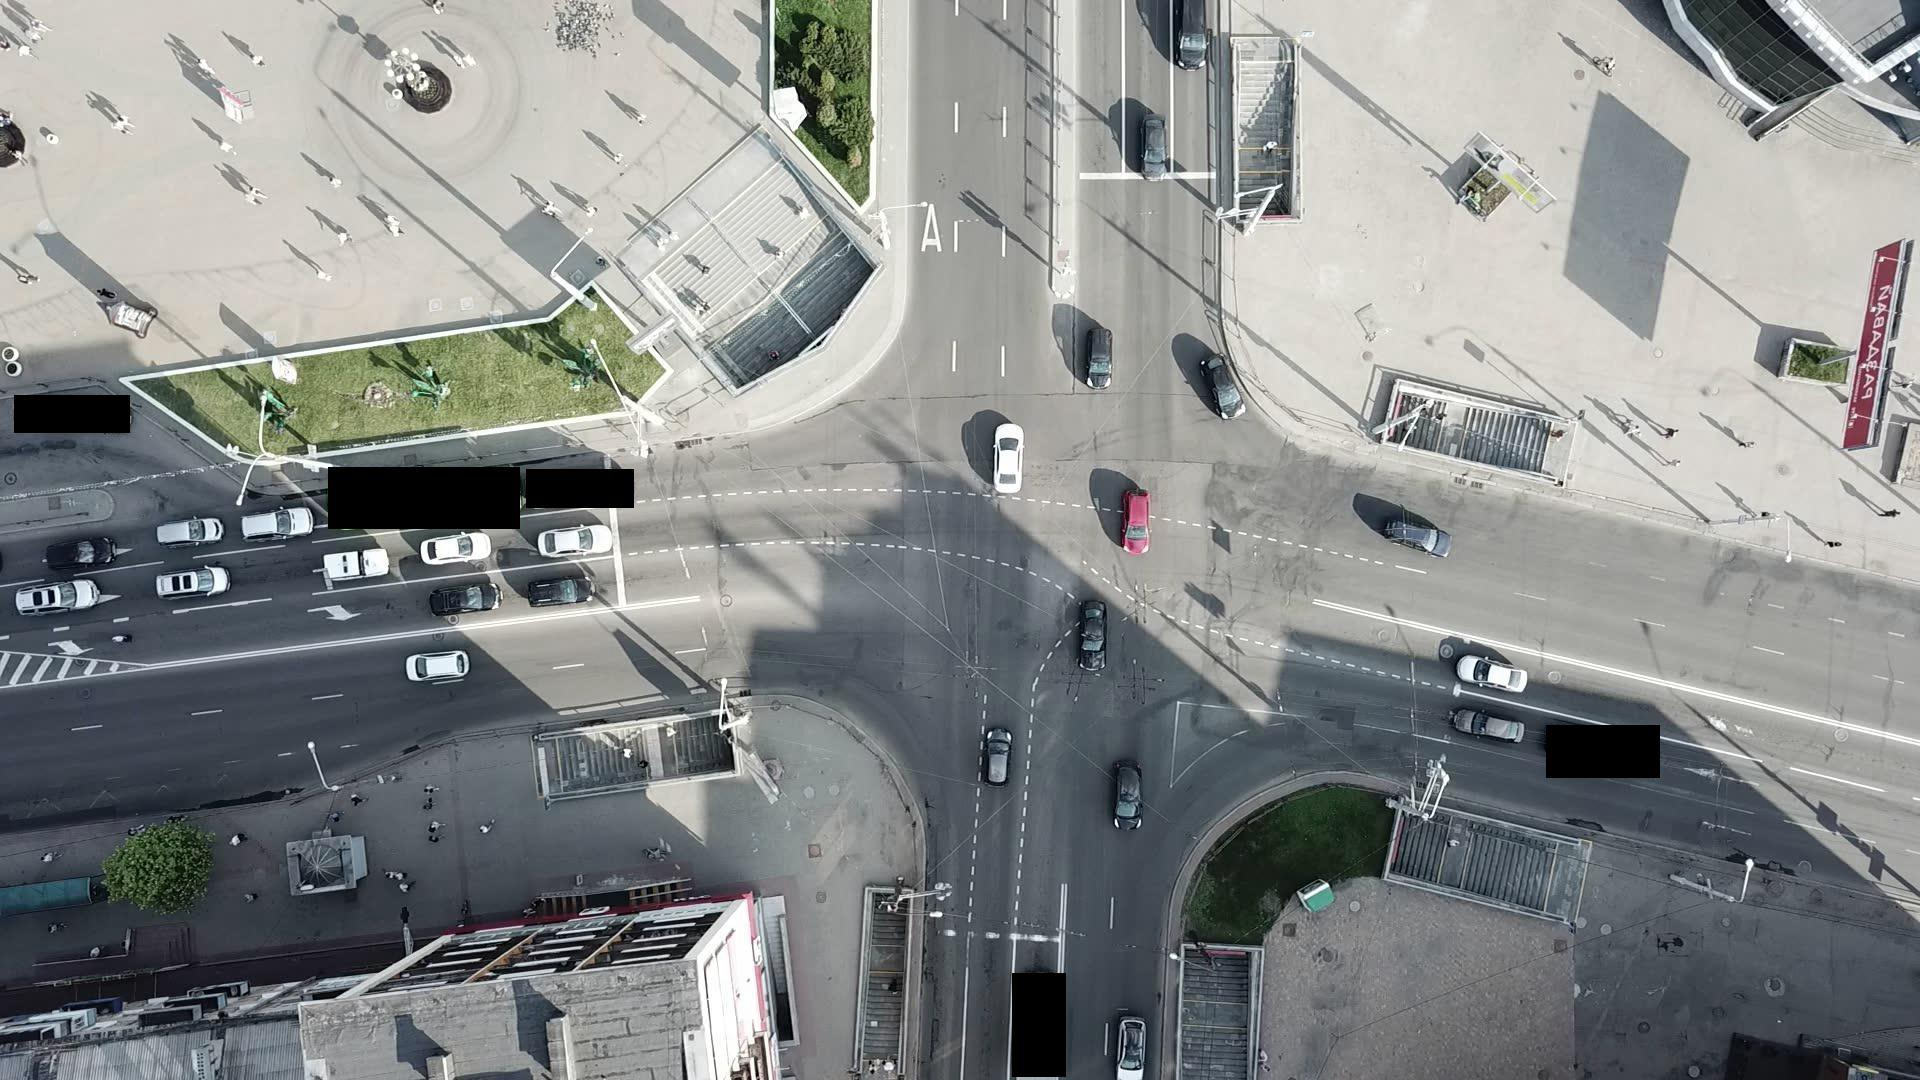vehicle: (15, 578, 100, 618), (1201, 352, 1246, 419), (1456, 654, 1528, 694), (152, 564, 231, 600), (47, 534, 117, 574), (1387, 520, 1455, 560), (421, 530, 492, 566), (243, 506, 314, 542), (539, 524, 613, 558), (429, 582, 504, 615), (1455, 708, 1526, 742), (1112, 760, 1145, 832), (323, 545, 388, 580), (527, 574, 595, 607), (1116, 1011, 1149, 1077), (156, 516, 224, 547), (994, 423, 1025, 493), (1077, 601, 1108, 671), (981, 727, 1014, 789), (407, 649, 469, 682), (1139, 113, 1168, 182), (1122, 489, 1153, 553), (1083, 328, 1113, 389)
